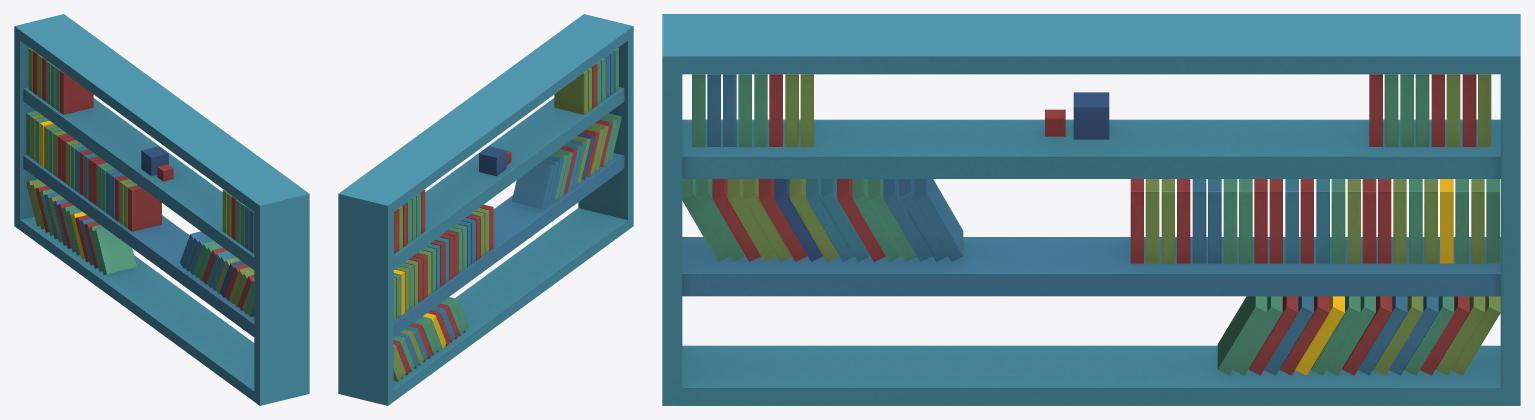
File: bookshelves03.fbx
3 views of the same model, side by side, from view 1: azimuth 30°, elevation 25°; view 2: azimuth 150°, elevation 25°; view 3: azimuth 270°, elevation 25° (orthographic). The views are drawn at different scales.
Visible parts, largest first — view 1: polySurface173; view 2: polySurface173; view 3: polySurface173.
Part boxes in pixels (left/top/right/bottom): polySurface173: left=14, top=14, right=309, bottom=405; polySurface173: left=338, top=14, right=633, bottom=405; polySurface173: left=662, top=14, right=1520, bottom=405.
Bounding box in the file's own units: 6.03 × 23.23 × 51.67.
Materials: 1 (1 with a texture image).
